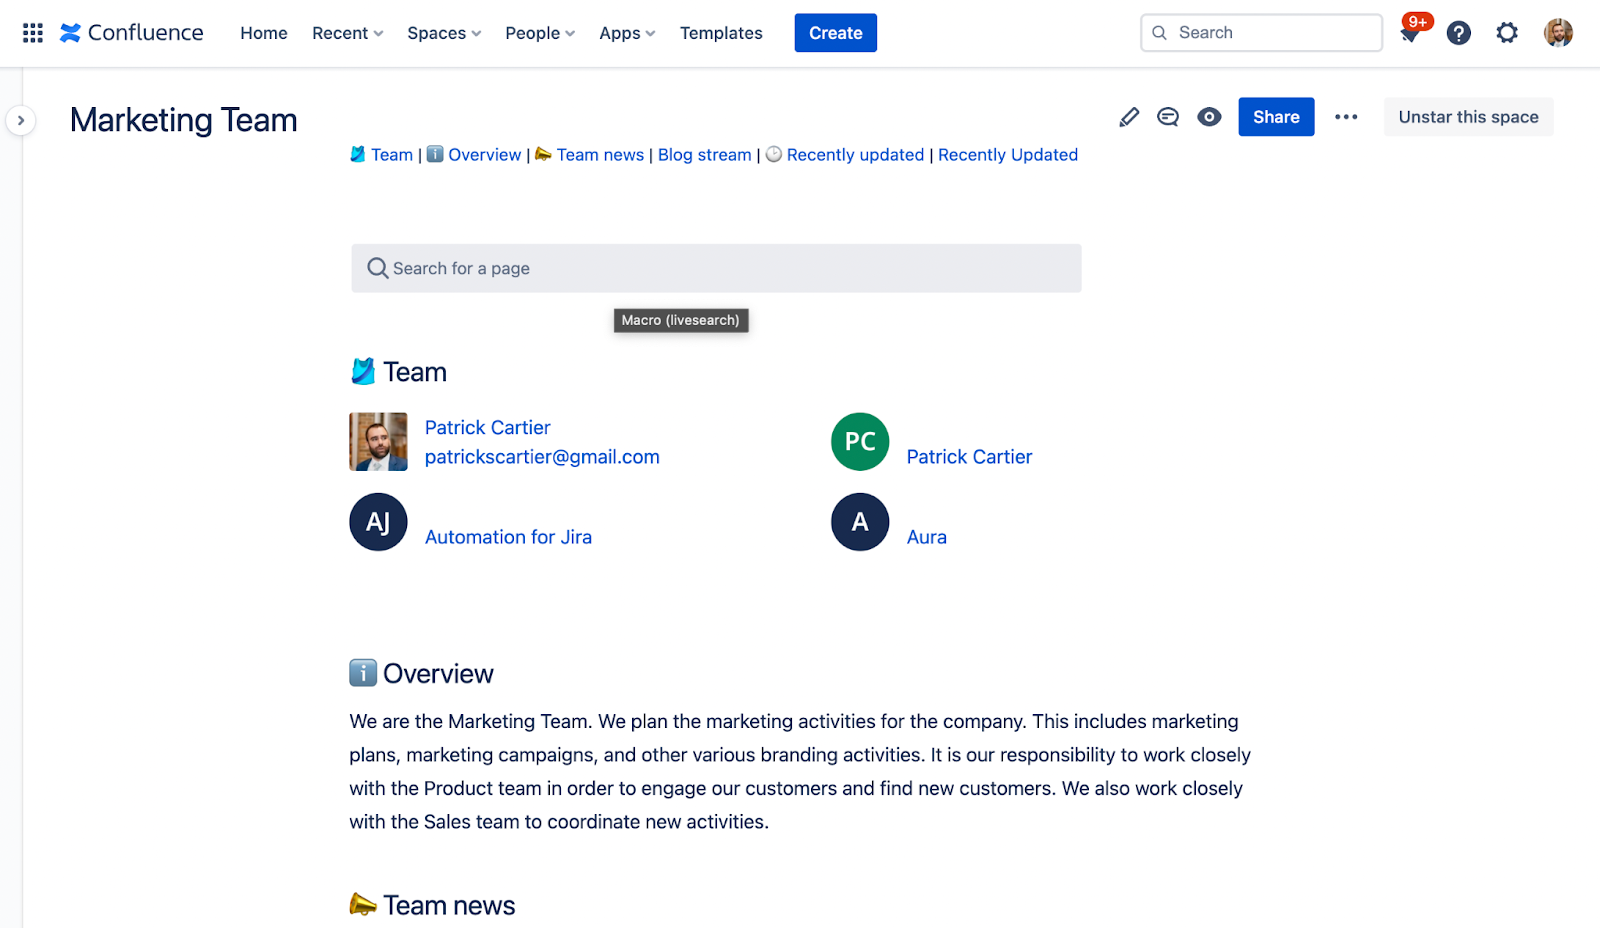button_create: (795, 9, 880, 55)
search_box: (1141, 8, 1389, 57)
